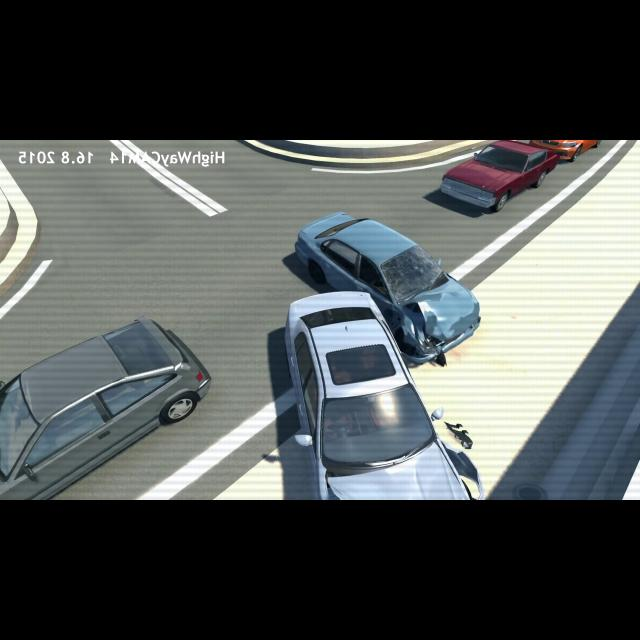accident: (283, 208, 488, 497)
